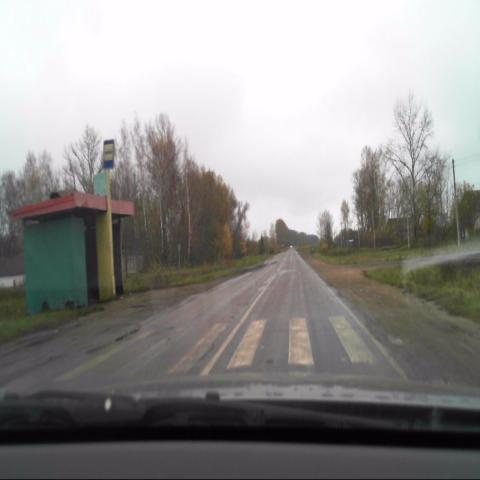5_16: (103, 140, 114, 170)
